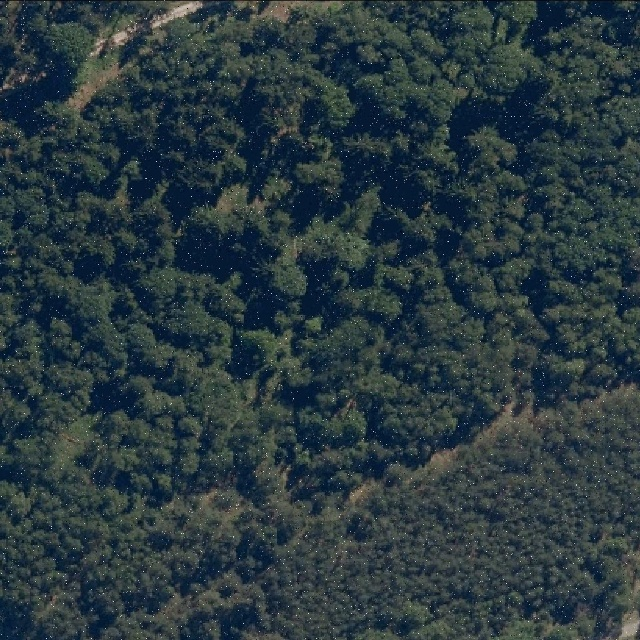vegetation: (2, 2, 639, 640), (1, 1, 190, 88)
